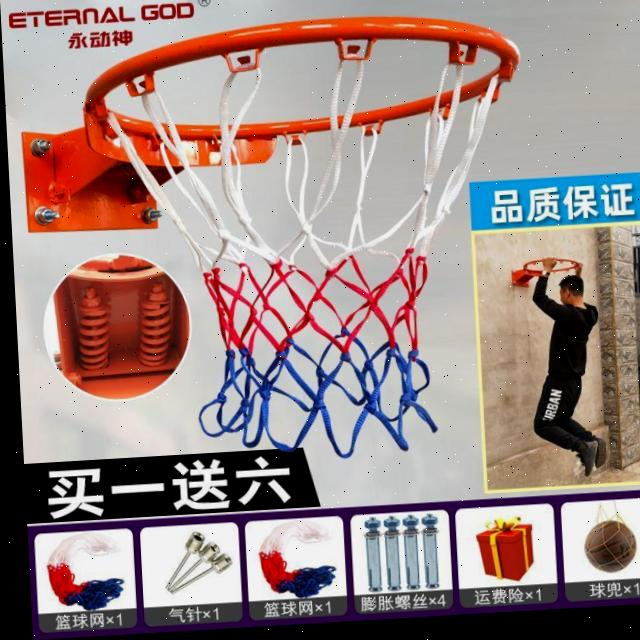basketball: (582, 518, 639, 575)
hoop: (89, 6, 539, 467), (523, 255, 582, 277)
